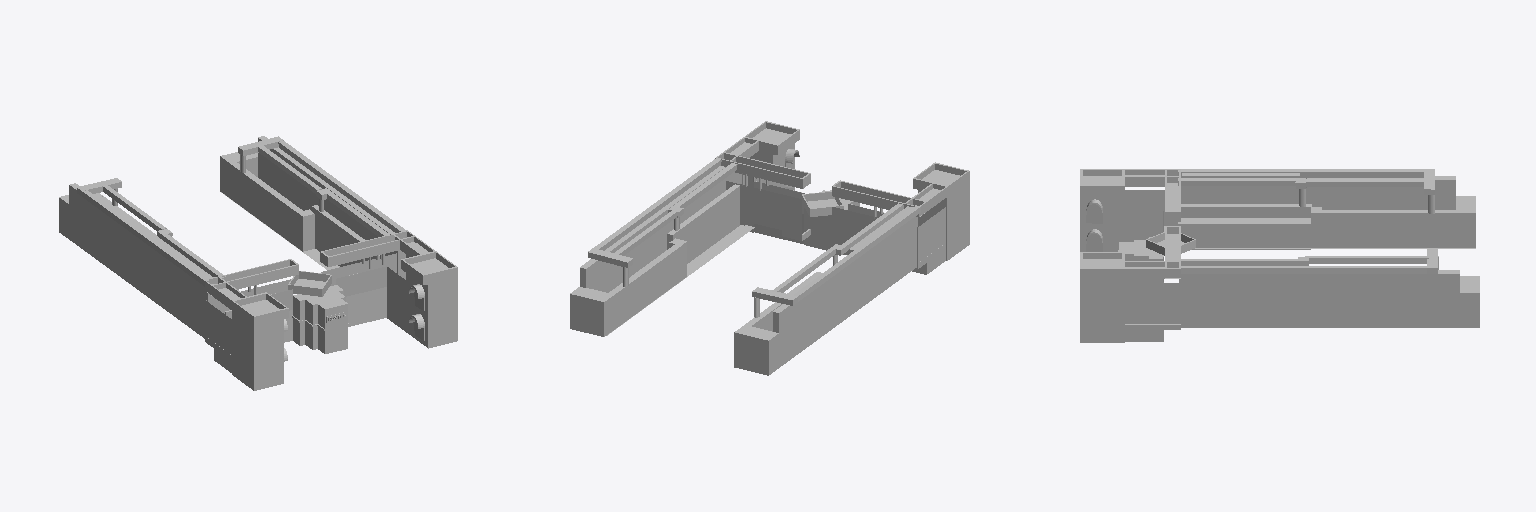
The model's file is HostelE.obj.
3 views of the same model, side by side, from view 1: azimuth 30°, elevation 25°; view 2: azimuth 150°, elevation 25°; view 3: azimuth 270°, elevation 25° (orthographic).
Visible parts, largest first — view 1: Cube.004; view 2: Cube.004; view 3: Cube.004.
Boxes of the visible parts, x1,y1,x2,y2 form: Cube.004: [59, 136, 457, 390]; Cube.004: [570, 121, 969, 375]; Cube.004: [1080, 169, 1479, 342].
Size of the model in its own units: 10.61 by 3.69 by 17.96.